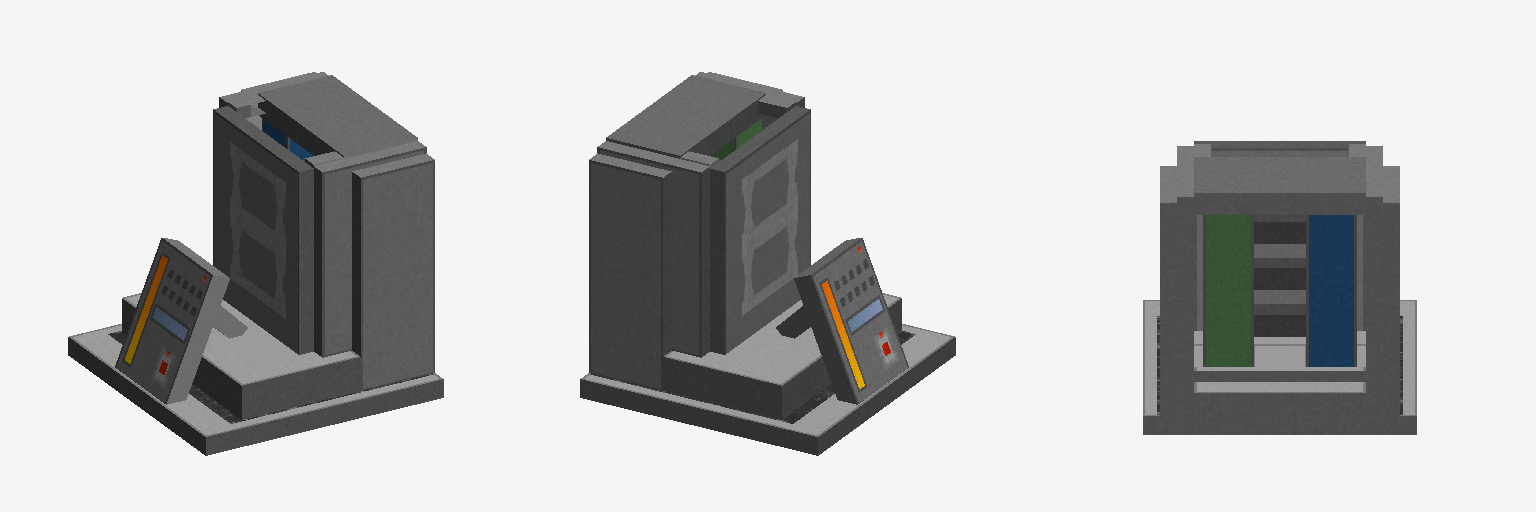
3 views of the same model, side by side, from view 1: azimuth 30°, elevation 25°; view 2: azimuth 150°, elevation 25°; view 3: azimuth 270°, elevation 25° (orthographic).
Parts seen in each view (by area): view 1: cube; view 2: cube; view 3: cube.
Part boxes in pixels (left/top/right/bottom): cube: left=68, top=72, right=443, bottom=455; cube: left=580, top=72, right=955, bottom=455; cube: left=1143, top=141, right=1416, bottom=434.
Bounding box in the file's own units: 16 × 15.5 × 16.
1 materials, 1 textured.